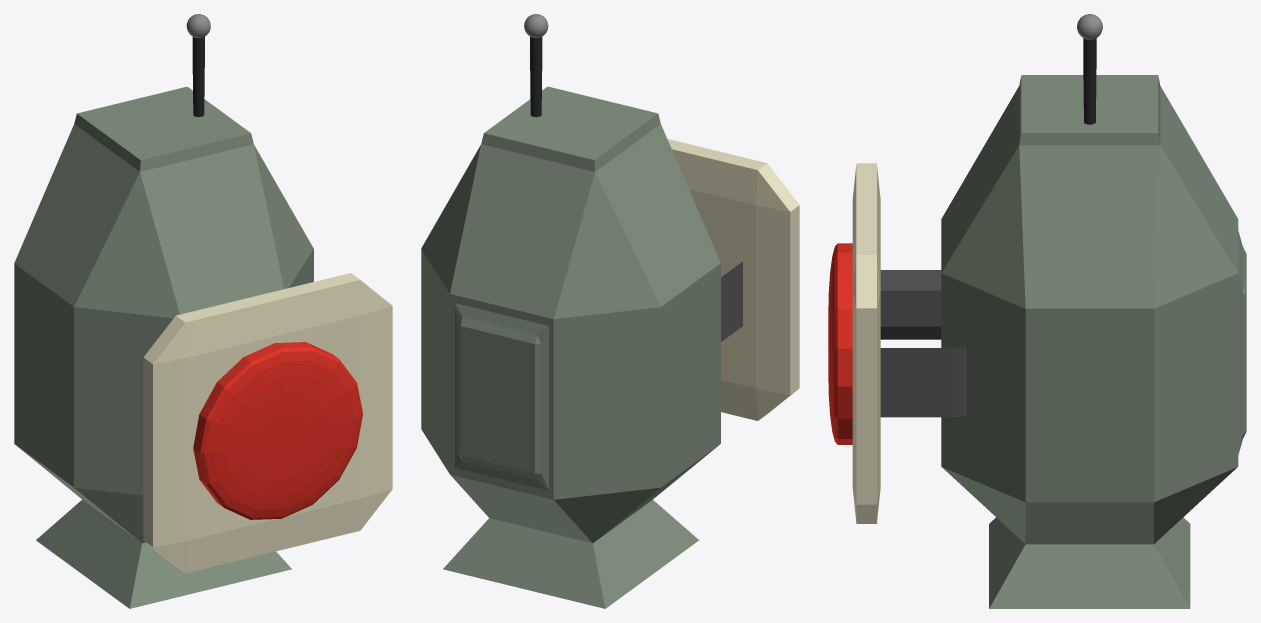
The model's file is Button.fbx.
The picture shows the model from 3 angles, left to right: view 1: azimuth 30°, elevation 25°; view 2: azimuth 150°, elevation 25°; view 3: azimuth 270°, elevation 25°; orthographic projection. The views are drawn at different scales.
Parts seen in each view (by area): view 1: AntennaBase, ButtonSupport, ButtonButton, Antenna; view 2: AntennaBase, ButtonSupport, Antenna; view 3: AntennaBase, ButtonSupport, ButtonButton, Antenna.
Part boxes in pixels (bbox=[...]): AntennaBase: bbox=[14, 86, 313, 608]; ButtonSupport: bbox=[143, 273, 392, 573]; ButtonButton: bbox=[193, 342, 362, 519]; Antenna: bbox=[186, 14, 210, 117]; AntennaBase: bbox=[421, 86, 720, 608]; ButtonSupport: bbox=[667, 139, 799, 420]; Antenna: bbox=[524, 14, 548, 117]; AntennaBase: bbox=[941, 75, 1246, 608]; ButtonSupport: bbox=[852, 163, 965, 523]; ButtonButton: bbox=[828, 243, 852, 444]; Antenna: bbox=[1077, 14, 1102, 124].
Bounding box in the file's own units: 124 × 268 × 175.
